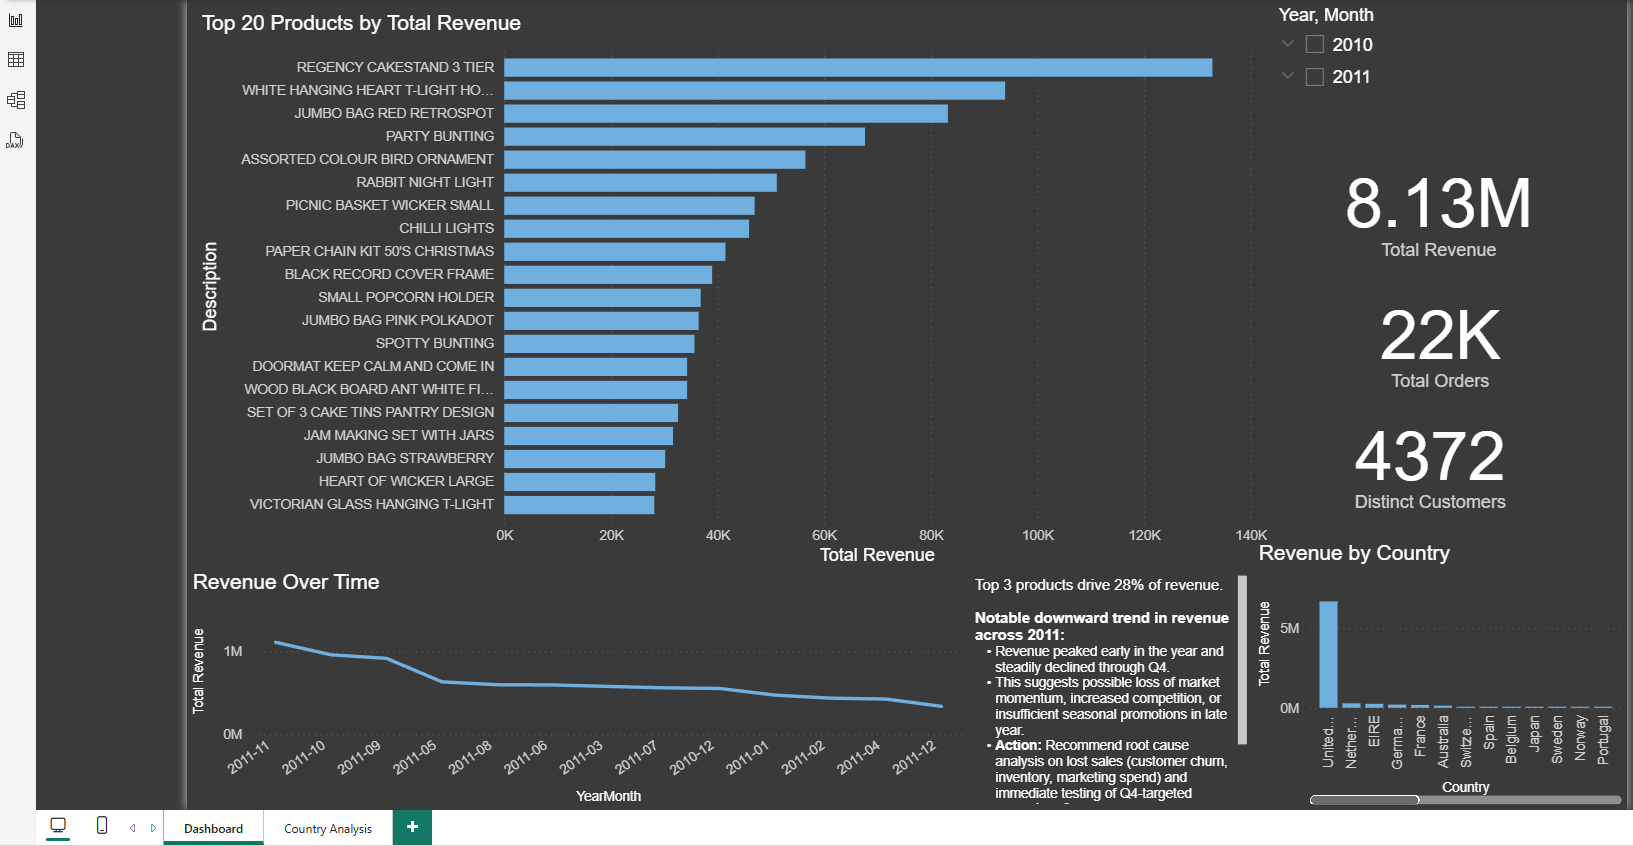

The page's visual inventory and layout, read from the dashboard file:
{"tool":"powerbi","page":{"name":"Dashboard","canvas":[1280,720],"ordinal":0},"visuals":[{"type":"barChart","title":" Top 20 Products by Total Revenue","fields":{"Category":["Products.Description"],"Y":["data.Total Revenue"]},"box":[8,10,957.3,496.6],"z":0},{"type":"lineChart","title":"Revenue Over Time","fields":{"Category":["Calendar.YearMonth"],"Y":["data.Total Revenue"]},"box":[0,506.7,695.4,213],"z":1000},{"type":"slicer","fields":{"Values":["Calendar.Year","Calendar.Month"]},"box":[957.1,0,313.2,125.5],"z":2000},{"type":"columnChart","title":"Revenue by Country","fields":{"Category":["Customers.Country"],"Y":["data.Total Revenue"]},"box":[947.4,480.5,332.6,239.3],"z":3000},{"type":"card","fields":{"Values":["data.Total Revenue"]},"box":[964.9,119.6,296.7,129.4],"z":4000},{"type":"card","fields":{"Values":["data.Total Orders"]},"box":[957.1,249,313.2,105],"z":5000},{"type":"card","fields":{"Values":["data.Distinct Customers"]},"box":[972.6,354,265.5,110.9],"z":6000},{"type":"textbox","box":[695.5,506.6,251.8,212.8],"z":7000}]}

Visuals, with their boxes on the page's 1280x720 design canvas (x1, y1, x2, y2). These are canvas units, not pixel positions in the 1633x846 screenshot, which may show the page scaled, cropped or inside an application window:
" Top 20 Products by Total Revenue" barChart: 8,10,965,507
"Revenue Over Time" lineChart: 0,507,695,720
slicer - Calendar.Year x Calendar.Month: 957,0,1270,126
"Revenue by Country" columnChart: 947,480,1280,720
card - data.Total Revenue: 965,120,1262,249
card - data.Total Orders: 957,249,1270,354
card - data.Distinct Customers: 973,354,1238,465
textbox: 696,507,947,719
